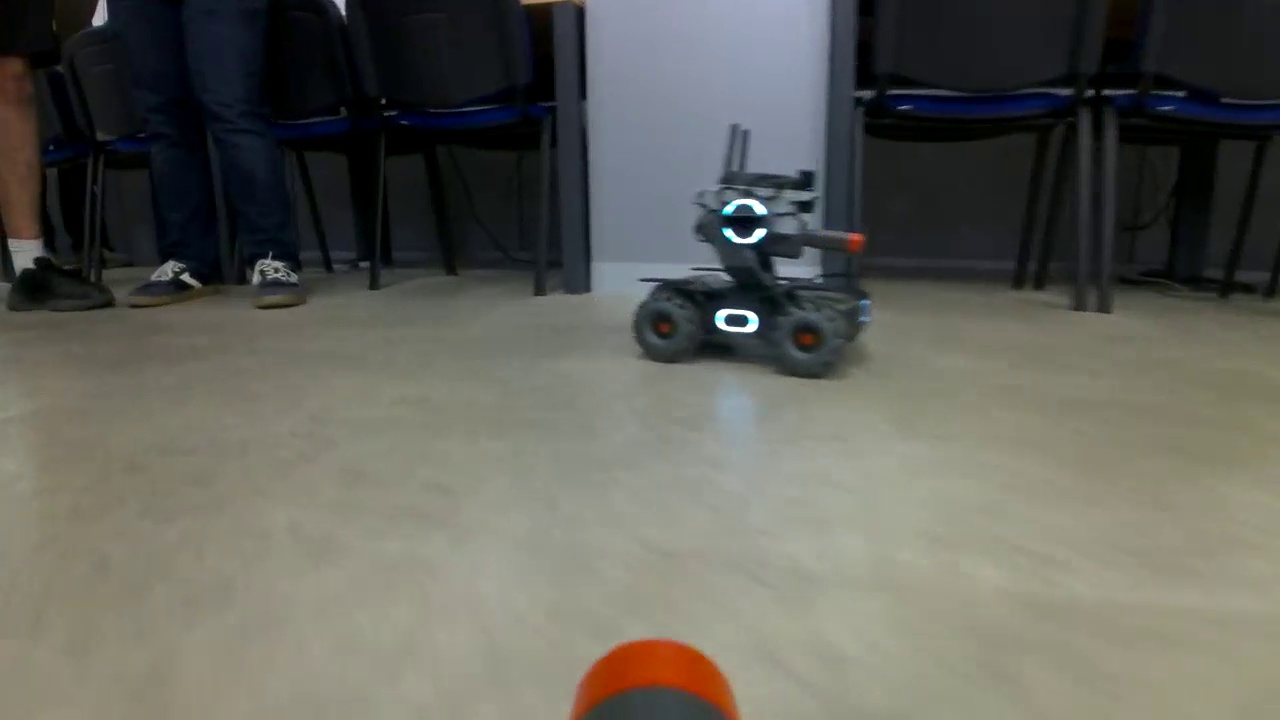robot: (632, 170, 874, 379)
